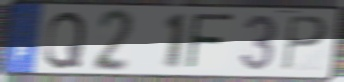1: (162, 12, 190, 72)
2: (90, 6, 136, 76)
3: (238, 13, 278, 73)
F: (184, 12, 237, 72)
P: (281, 14, 330, 73)
Q: (42, 9, 89, 70)
